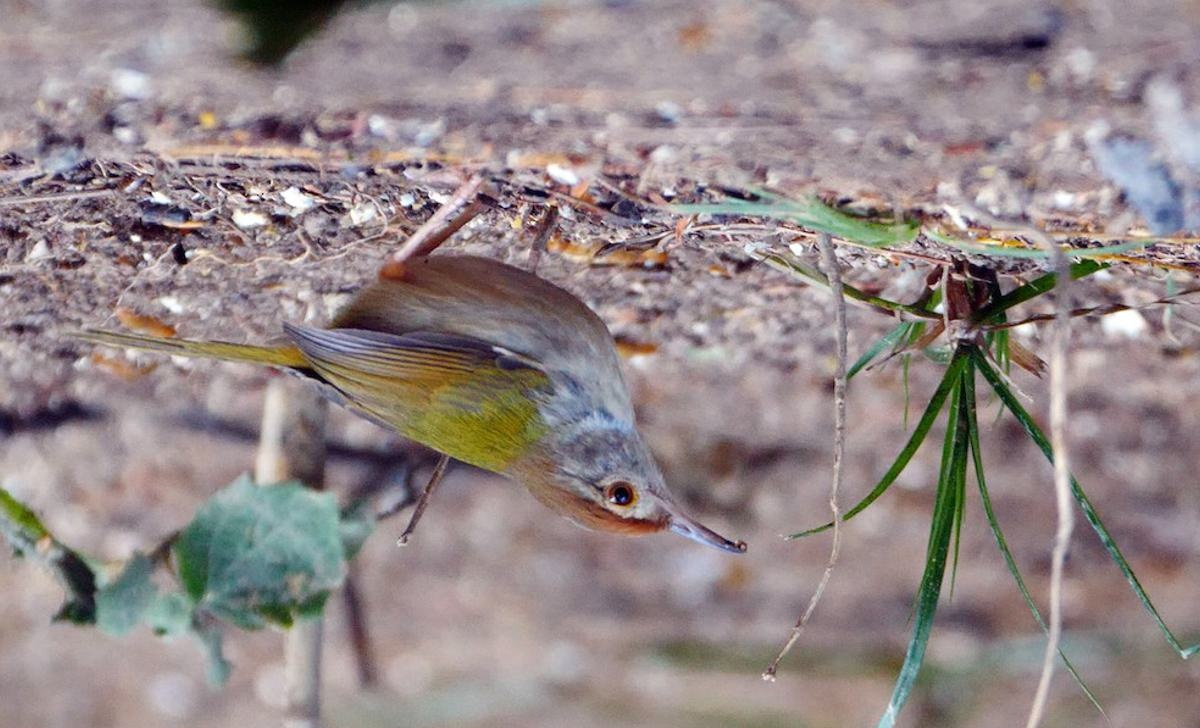tailorbird: (175, 167, 799, 591)
